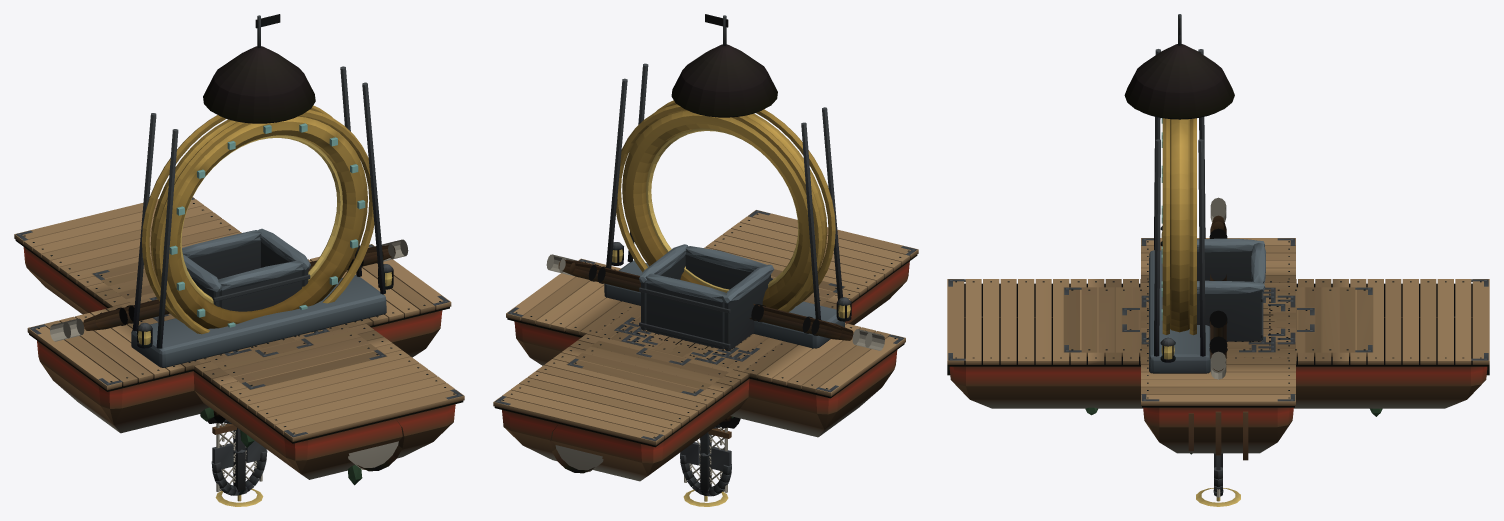
The model's file is coast-1-C_jSYS5C.glb.
3 views of the same model, side by side, from view 1: azimuth 30°, elevation 25°; view 2: azimuth 150°, elevation 25°; view 3: azimuth 270°, elevation 25° (orthographic). The views are drawn at different scales.
Parts seen in each view (by area): view 1: portal_#0, block_10x2x28#0, block_20x2x8#0, hopper_4x3#0, block_8x2x16#0, blade_3x10x1#0, mount_8.2#0, mount_8.9#0, beam_3x2x28#0, block_3x2x10#0; view 2: block_10x2x28#0, portal_#0, block_20x2x8#0, hopper_4x3#0, block_8x2x16#0, mount_8.2#0, blade_3x10x1#0, mount_8.9#0, beam_3x2x28#0, block_3x2x10#0; view 3: block_10x2x28#0, portal_#0, block_20x2x8#0, block_8x2x16#0, hopper_4x3#0, mount_8.9#0, block_3x2x10#0, mount_8.2#0.
Boxes of the visible parts, <box> form: portal_#0: <box>131,14,393,368</box>; block_10x2x28#0: <box>14,197,464,485</box>; block_20x2x8#0: <box>27,244,451,433</box>; hopper_4x3#0: <box>182,228,310,311</box>; block_8x2x16#0: <box>91,259,387,389</box>; blade_3x10x1#0: <box>211,423,267,495</box>; mount_8.2#0: <box>66,243,394,338</box>; mount_8.9#0: <box>50,239,408,341</box>; beam_3x2x28#0: <box>348,420,404,471</box>; block_3x2x10#0: <box>253,336,314,357</box>; block_10x2x28#0: <box>493,210,918,481</box>; portal_#0: <box>604,14,851,348</box>; block_20x2x8#0: <box>506,258,905,437</box>; hopper_4x3#0: <box>639,244,774,350</box>; block_8x2x16#0: <box>566,269,845,396</box>; mount_8.2#0: <box>559,257,869,347</box>; blade_3x10x1#0: <box>680,428,731,496</box>; mount_8.9#0: <box>546,254,884,350</box>; beam_3x2x28#0: <box>550,425,603,473</box>; block_3x2x10#0: <box>635,339,699,365</box>; block_10x2x28#0: <box>947,279,1489,416</box>; portal_#0: <box>1124,14,1234,373</box>; block_20x2x8#0: <box>1141,238,1295,460</box>; block_8x2x16#0: <box>1063,287,1373,356</box>; hopper_4x3#0: <box>1197,238,1265,341</box>; mount_8.9#0: <box>1209,197,1227,379</box>; block_3x2x10#0: <box>1121,307,1315,332</box>; mount_8.2#0: <box>1209,204,1227,364</box>.
Size of the model in its own units: 20.78 by 27.7 by 28.
